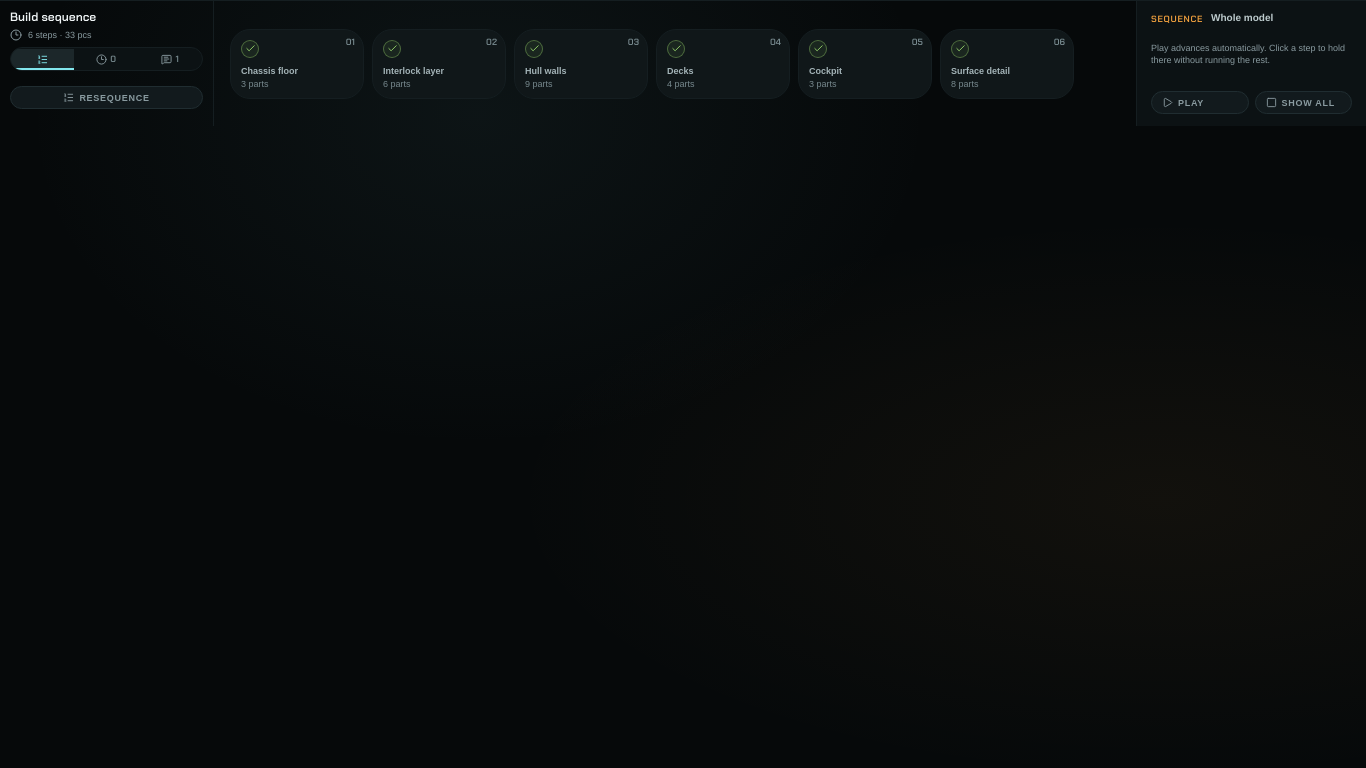
Test: build playback and edit history chrome › holds a clicked step instead of auto-playing the rest of the sequence
Click the button titled "Hold the build at step 2:" at (439, 64), box 372,29 -> 506,99
Wait 4000 ms
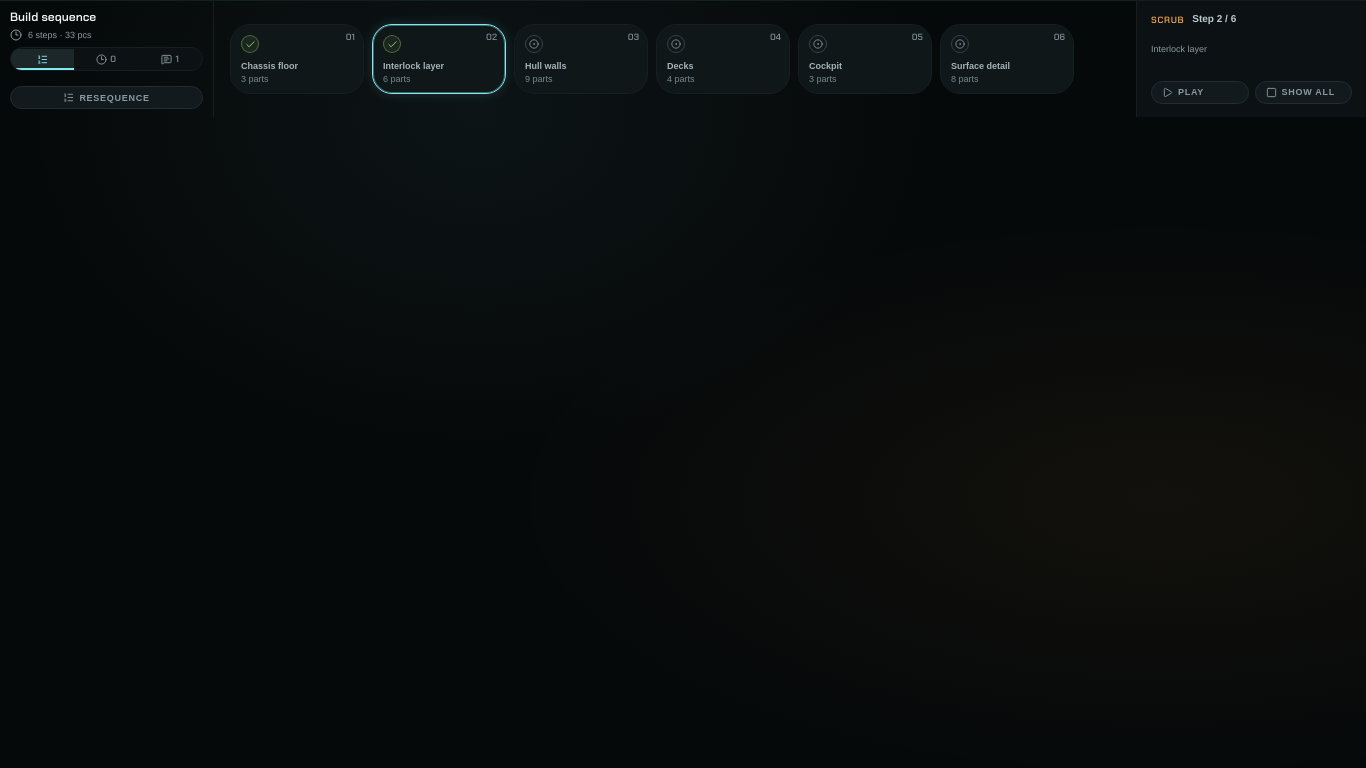
Check: the text "Step 2 / 6" is shown, box 1192,14 -> 1236,25
